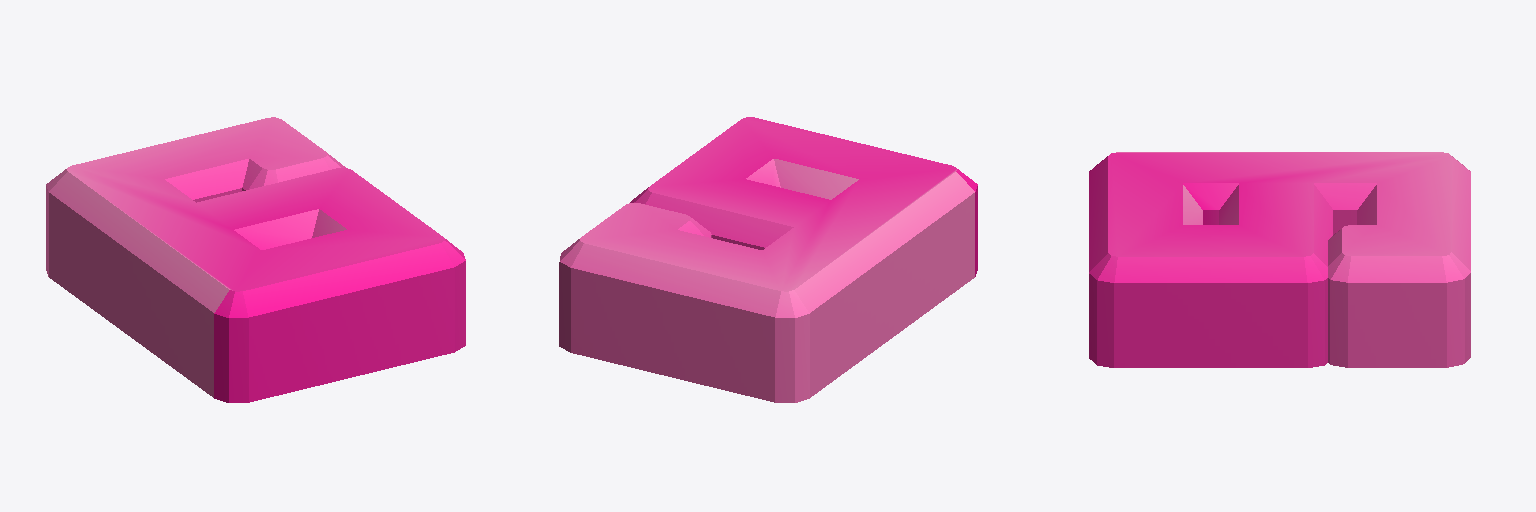
3 views of the same model, side by side, from view 1: azimuth 30°, elevation 25°; view 2: azimuth 150°, elevation 25°; view 3: azimuth 270°, elevation 25° (orthographic).
Parts seen in each view (by area): view 1: 9; view 2: 9; view 3: 9.
Boxes of the visible parts, <box> form: 9: <box>46,117,465,402</box>; 9: <box>559,117,977,402</box>; 9: <box>1089,152,1470,367</box>.
Bounding box in the file's own units: 1.59 × 0.63 × 2.12.
Materials: 1 (1 with a texture image).